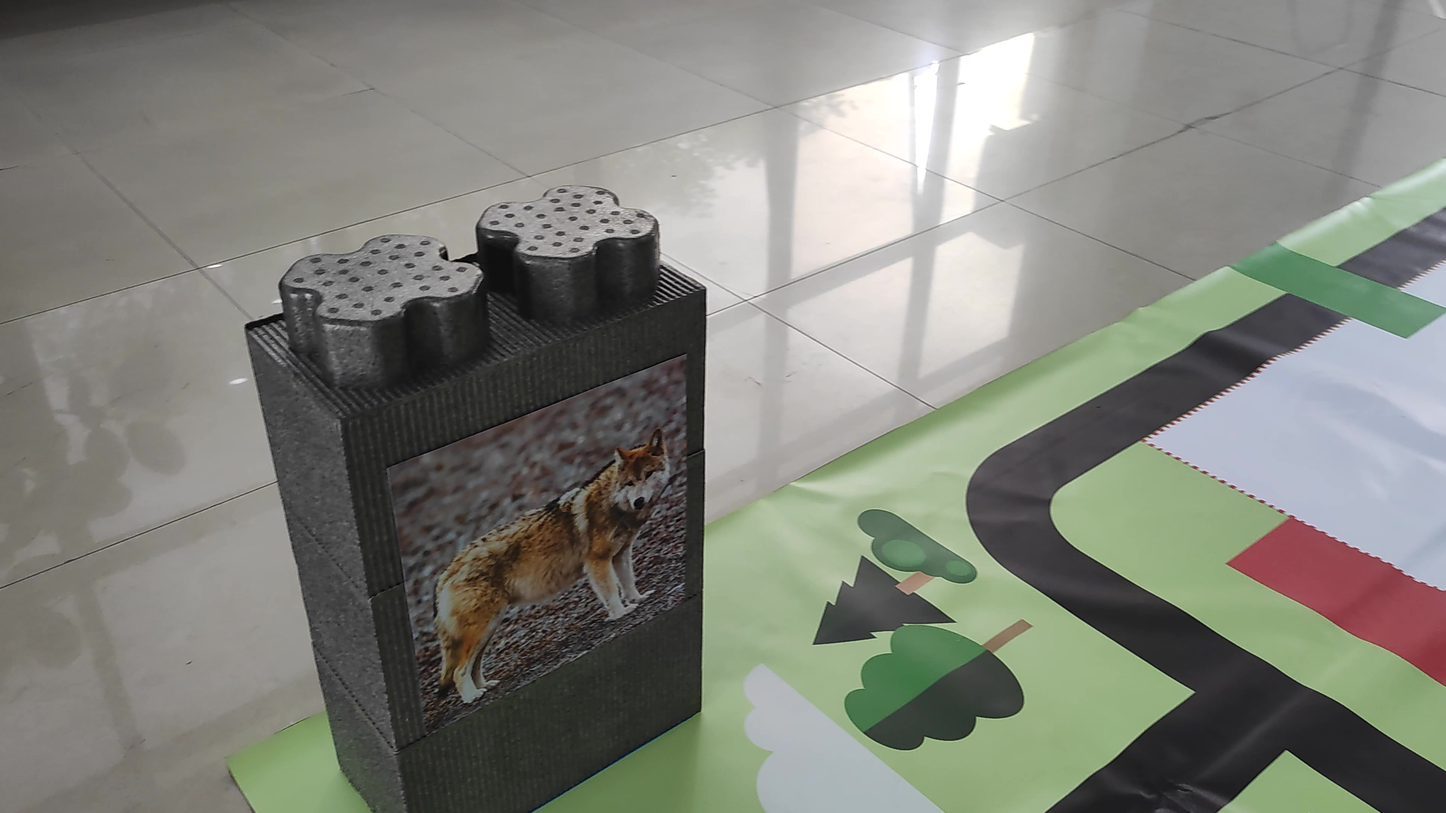wolf: (401, 419, 682, 715)
